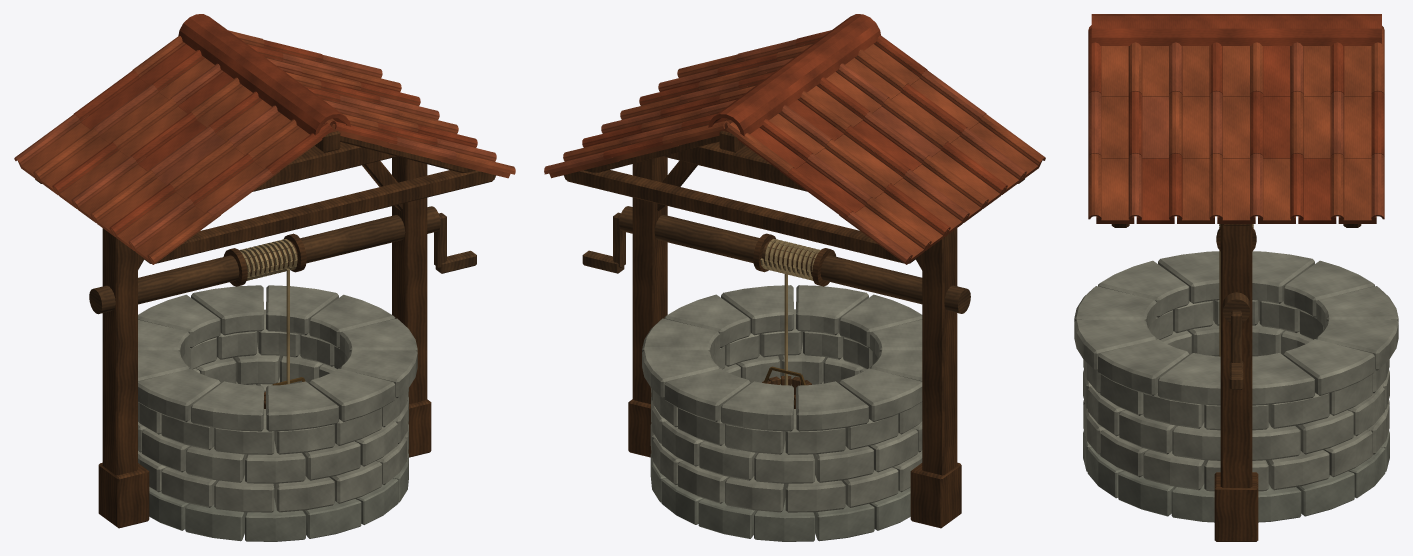
The model's file is village_well.glb.
3 renders of one model, left to right at view 1: azimuth 30°, elevation 25°; view 2: azimuth 150°, elevation 25°; view 3: azimuth 270°, elevation 25°, orthographic. The views are drawn at different scales.
Parts seen in each view (by area): view 1: village_well_00, village_well_03, village_well_04, village_well_06, village_well_05, village_well_01, Well_Winding_Axle, Well_Wound_Rope, Well_Crank; view 2: village_well_00, village_well_03, village_well_04, village_well_06, village_well_05, village_well_01, Well_Winding_Axle, Well_Wound_Rope, Well_Crank; view 3: village_well_00, village_well_04, village_well_06, village_well_03, village_well_05, village_well_01, Well_Crank, Well_Winding_Axle.
Part boxes in pixels (x1,y1,x2,y2): village_well_00: (138, 285, 417, 512); village_well_03: (35, 131, 495, 528); village_well_04: (18, 30, 515, 264); village_well_06: (52, 14, 477, 234); village_well_05: (14, 53, 496, 248); village_well_01: (149, 453, 408, 541); Well_Winding_Axle: (89, 206, 440, 314); Well_Wound_Rope: (239, 239, 297, 280); Well_Crank: (434, 213, 476, 273); village_well_00: (642, 285, 922, 512); village_well_03: (564, 131, 1024, 528); village_well_04: (549, 37, 1045, 264); village_well_06: (582, 14, 1007, 234); village_well_05: (544, 39, 1026, 262); village_well_01: (650, 454, 910, 541); Well_Winding_Axle: (619, 206, 970, 313); Well_Wound_Rope: (760, 238, 820, 280); Well_Crank: (582, 212, 625, 273); village_well_00: (1074, 251, 1398, 491); village_well_04: (1088, 26, 1384, 223); village_well_06: (1088, 14, 1384, 223); village_well_03: (1111, 224, 1361, 541); village_well_05: (1088, 42, 1384, 219); village_well_01: (1083, 430, 1389, 522); Well_Crank: (1229, 310, 1243, 389); Well_Winding_Axle: (1222, 292, 1250, 322).
Size of the model in its own units: 3.2 by 3.27 by 2.16.
10 materials, 9 textured.
